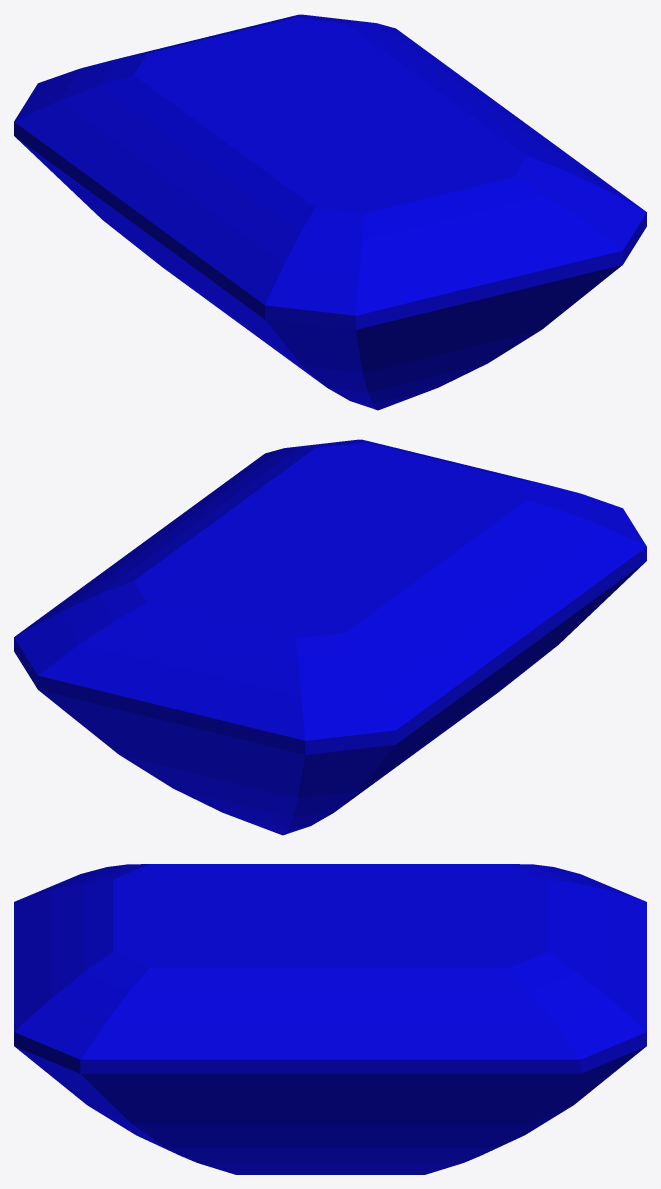
File: Head_No Halo_Emerald_1.5ct_Diamond.glb
3 renders of one model, top to bottom at view 1: azimuth 30°, elevation 25°; view 2: azimuth 150°, elevation 25°; view 3: azimuth 270°, elevation 25°, orthographic.
Bounding box in the file's own units: 0.00538 × 0.0035 × 0.00775.
